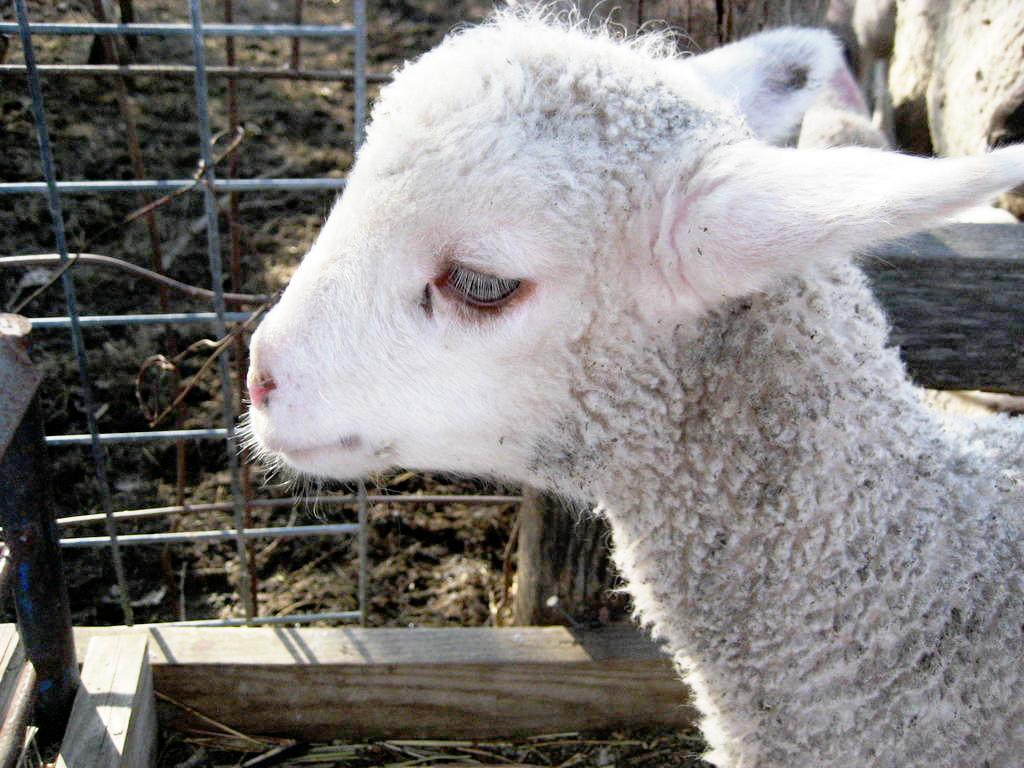Sheep: (215, 0, 1024, 748)
